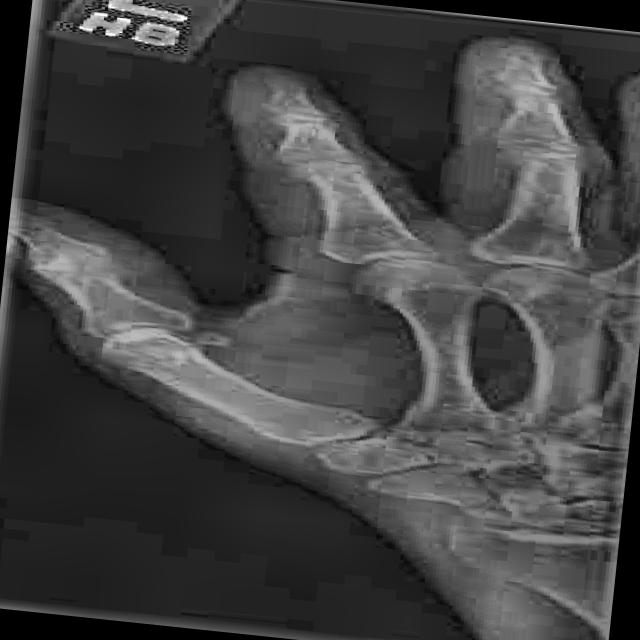fingers positive: (272, 160, 397, 194)
